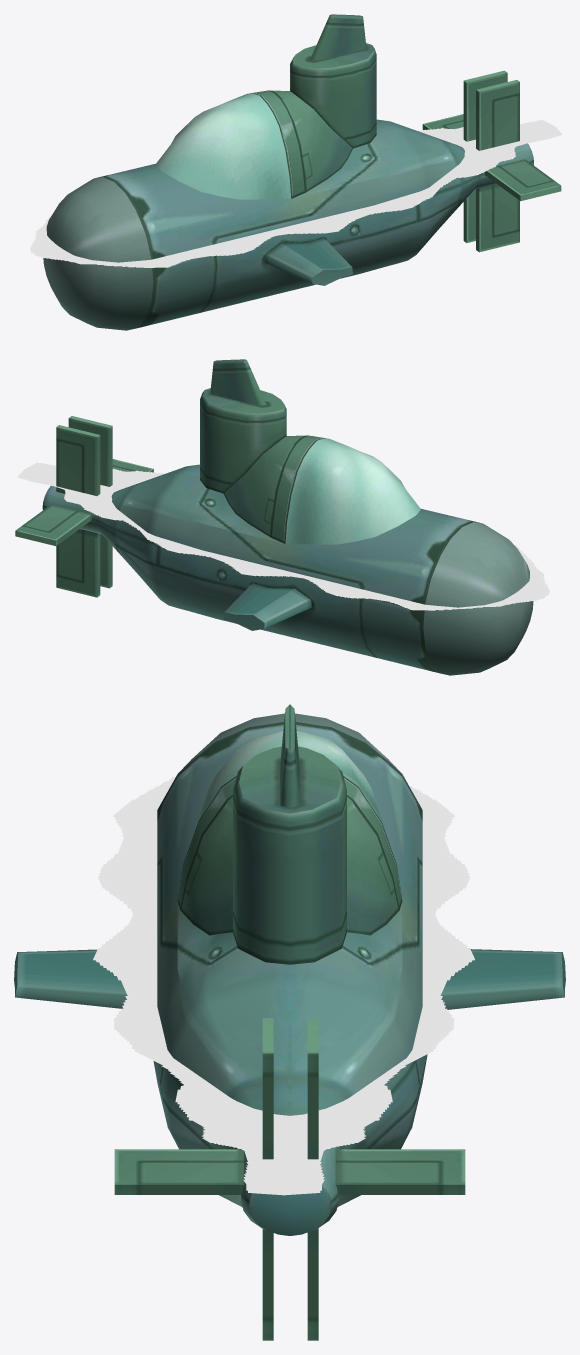
Rendered from grenSub.fbx.
The picture shows the model from 3 angles, top to bottom: view 1: azimuth 30°, elevation 25°; view 2: azimuth 150°, elevation 25°; view 3: azimuth 270°, elevation 25°; orthographic projection. The views are drawn at different scales.
Parts seen in each view (by area): view 1: GrenSub; view 2: GrenSub; view 3: GrenSub.
Part boxes in pixels (bbox=[...]): GrenSub: bbox=[30, 14, 562, 330]; GrenSub: bbox=[15, 359, 549, 675]; GrenSub: bbox=[14, 704, 565, 1340].
Bounding box in the file's own units: 214 × 102 × 107.
3 materials, 3 textured.
